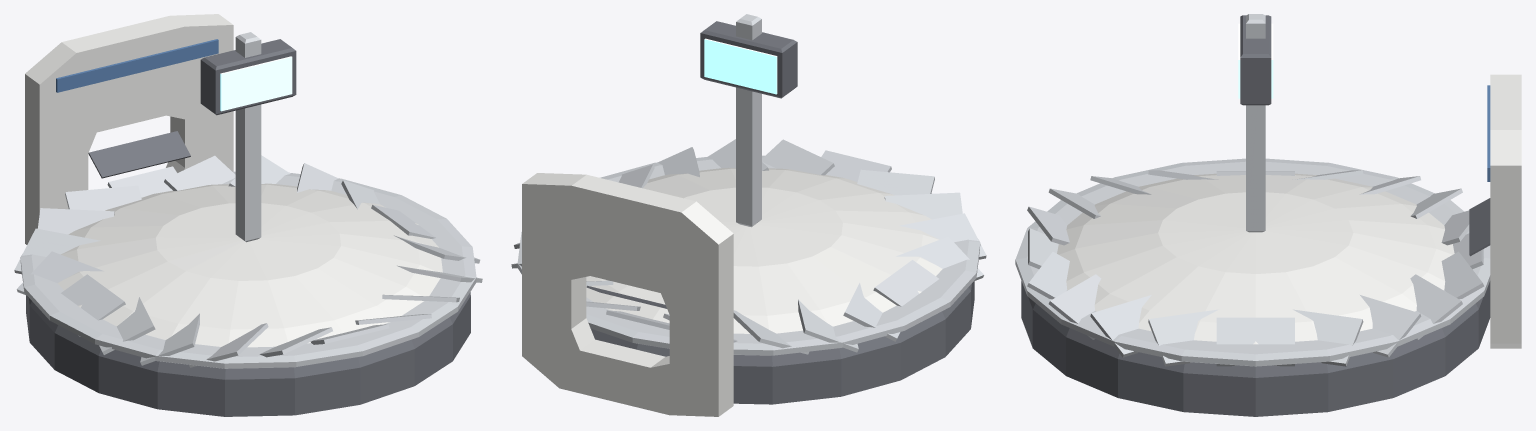
Rendered from airport-terminal-and-ground-operations-reclaim-carouse-67c68a17__26057.glb.
3 renders of one model, left to right at view 1: azimuth 30°, elevation 25°; view 2: azimuth 150°, elevation 25°; view 3: azimuth 270°, elevation 25°, orthographic. The views are drawn at different scales.
Parts seen in each view (by area): view 1: reclaim-carousel; view 2: reclaim-carousel; view 3: reclaim-carousel.
Boxes of the visible parts, x1=… form: reclaim-carousel: x1=14, y1=14, x2=482, y2=416; reclaim-carousel: x1=511, y1=14, x2=986, y2=416; reclaim-carousel: x1=1015, y1=14, x2=1521, y2=416.
Size of the model in its own units: 4.92 by 3.4 by 5.18.
